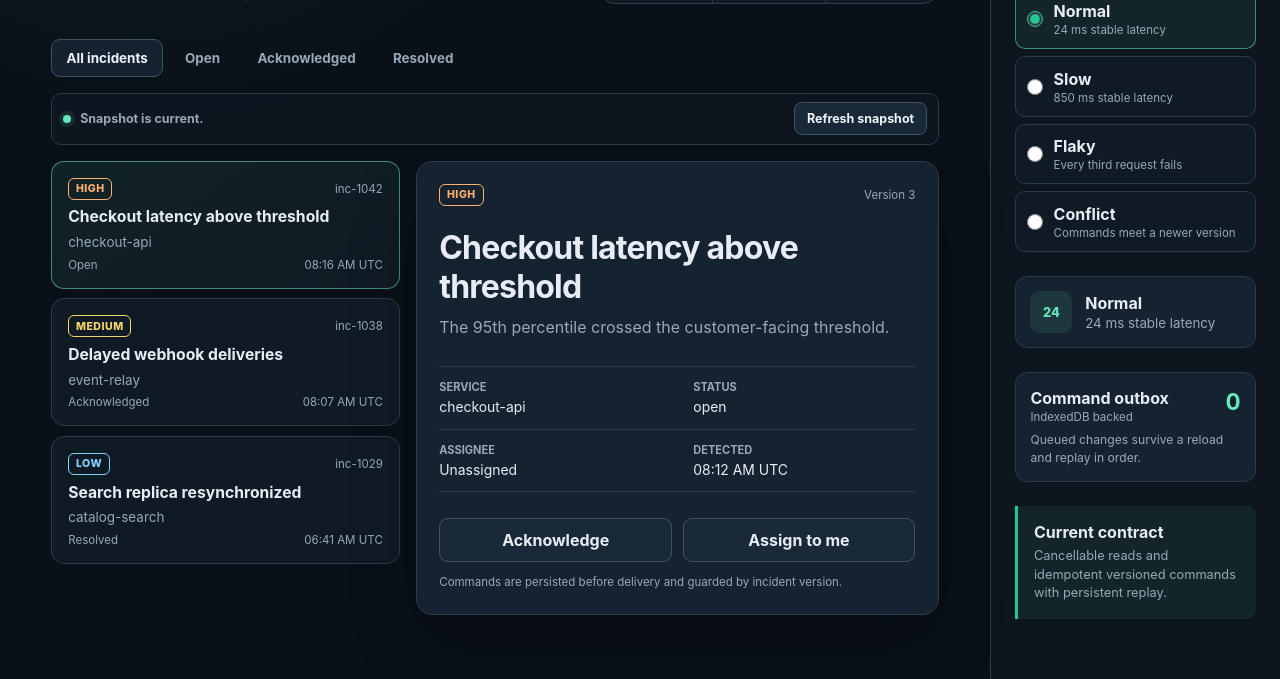
IncidentConsole › reconciles a delivered command and clears the persisted entry
(page scrolled)
Check: the button "Checkout latency above threshold" is shown, box [51, 160, 400, 288]
Click the button "Acknowledge".
click(556, 540)  # box [439, 518, 672, 562]
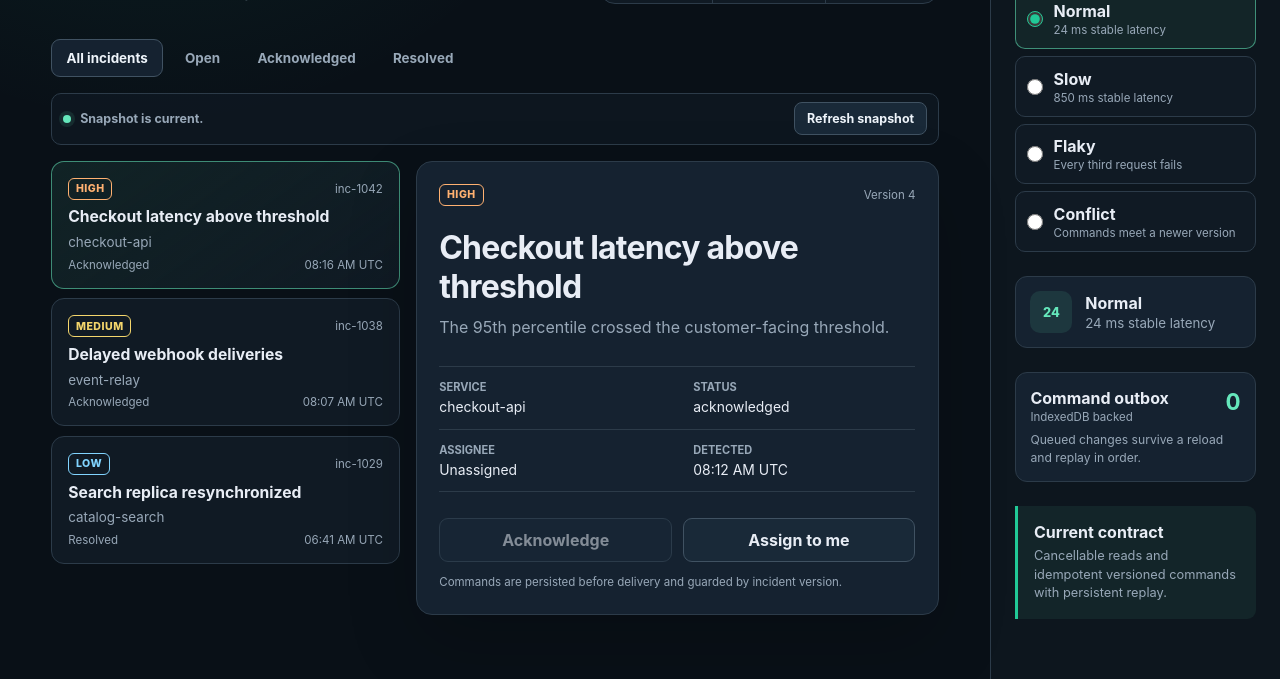
Check: the text "acknowledged" below "Status" is shown, box [693, 399, 790, 415]
